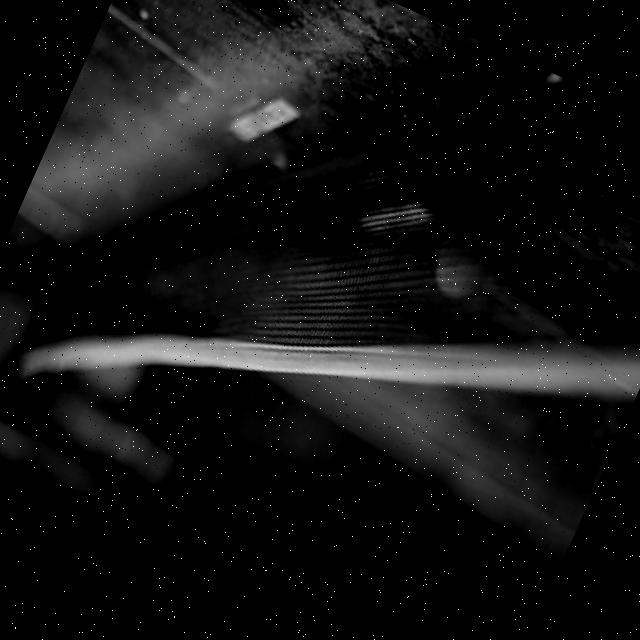ping-pong-ball: (424, 210, 506, 310)
